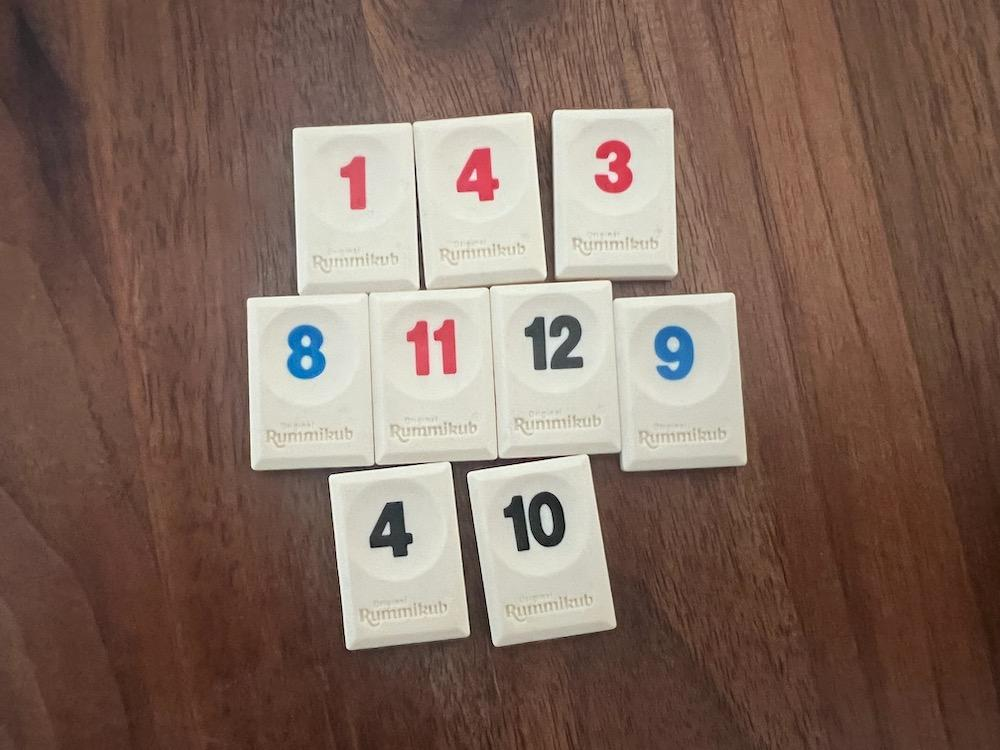black_10: (467, 455, 615, 646)
black_12: (490, 281, 621, 459)
black_4: (330, 463, 469, 650)
blue_8: (248, 293, 375, 471)
blue_9: (615, 293, 745, 471)
red_1: (294, 123, 420, 294)
red_11: (369, 290, 498, 465)
red_3: (553, 110, 678, 279)
red_4: (414, 114, 547, 289)
